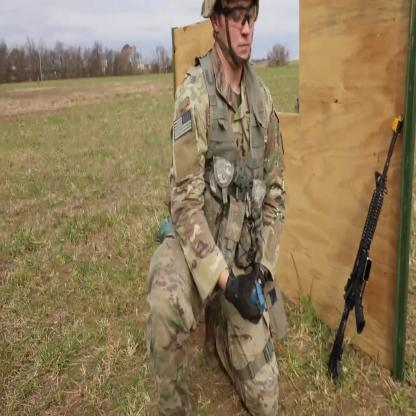Grenade: (251, 281, 268, 315)
Gun: (327, 114, 403, 381)
